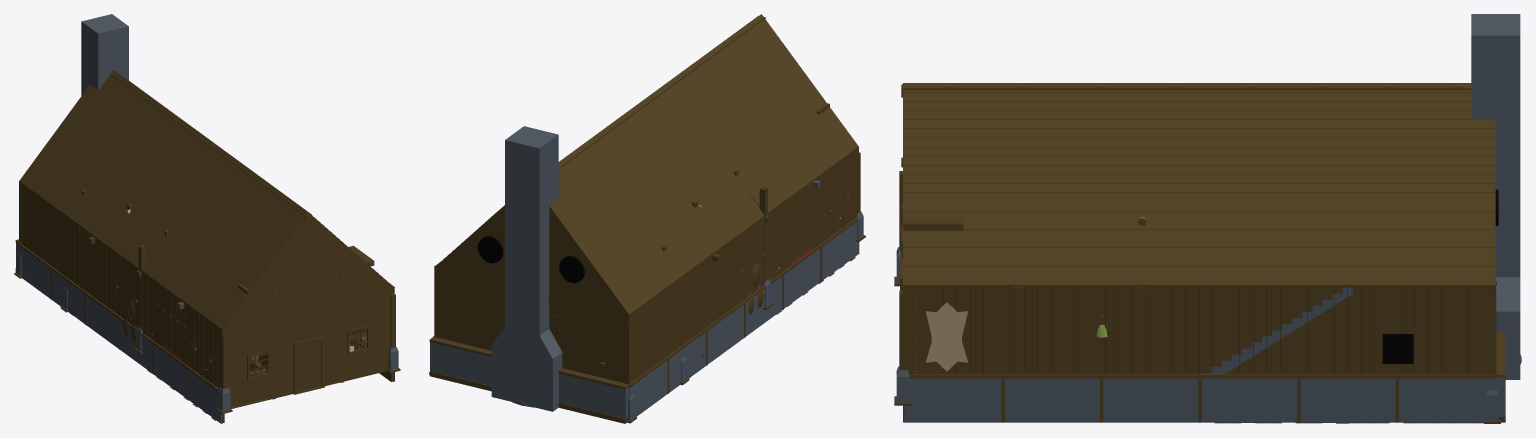
File: Cabin_Blockout_07.fbx
The picture shows the model from 3 angles, left to right: view 1: azimuth 30°, elevation 25°; view 2: azimuth 150°, elevation 25°; view 3: azimuth 270°, elevation 25°; orthographic projection. The views are drawn at different scales.
Parts seen in each view (by area): view 1: pCube5990; view 2: pCube5990; view 3: pCube5990.
Part boxes in pixels (x1=…): pCube5990: x1=14, y1=14, x2=400, y2=423; pCube5990: x1=429, y1=14, x2=865, y2=423; pCube5990: x1=894, y1=14, x2=1521, y2=423.
Bounding box in the file's own units: 898 × 1111 × 1863.
